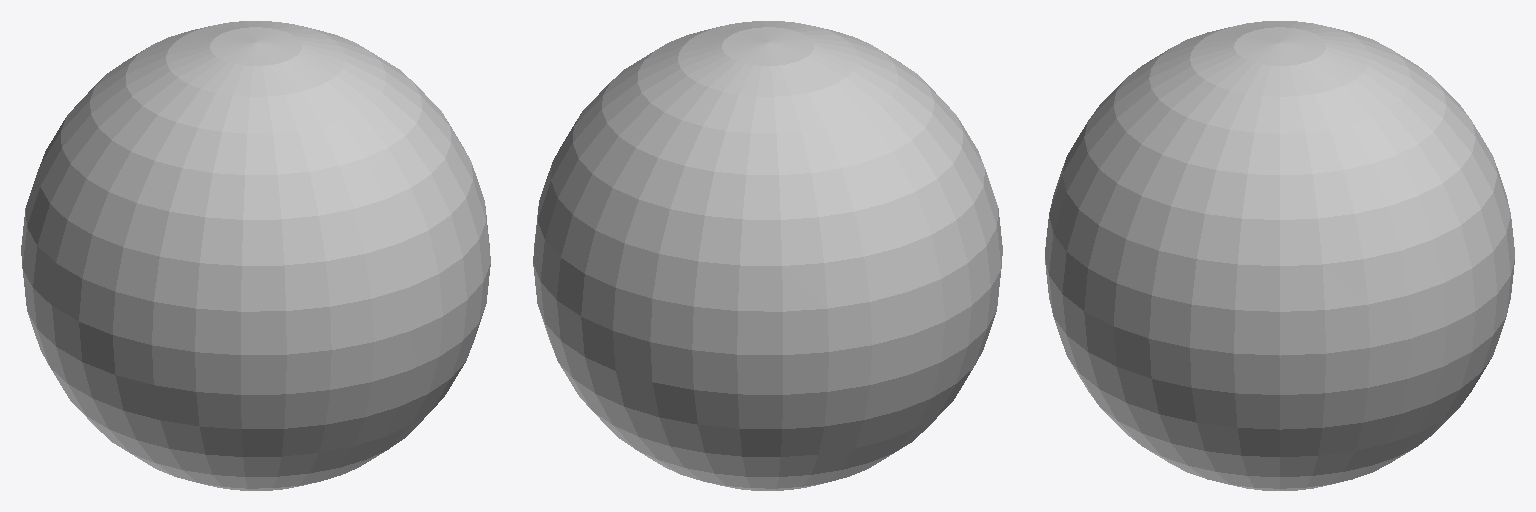
File: shar1.obj
3 views of the same model, side by side, from view 1: azimuth 30°, elevation 25°; view 2: azimuth 150°, elevation 25°; view 3: azimuth 270°, elevation 25° (orthographic).
Parts seen in each view (by area): view 1: Sphere.000; view 2: Sphere.000; view 3: Sphere.000.
Boxes of the visible parts, x1=… form: Sphere.000: x1=21, y1=21, x2=490, y2=490; Sphere.000: x1=533, y1=21, x2=1002, y2=490; Sphere.000: x1=1045, y1=21, x2=1514, y2=490.
Bounding box in the file's own units: 0.2111 × 0.2111 × 0.2111.